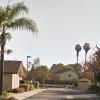Tree: (73, 37, 100, 72)
